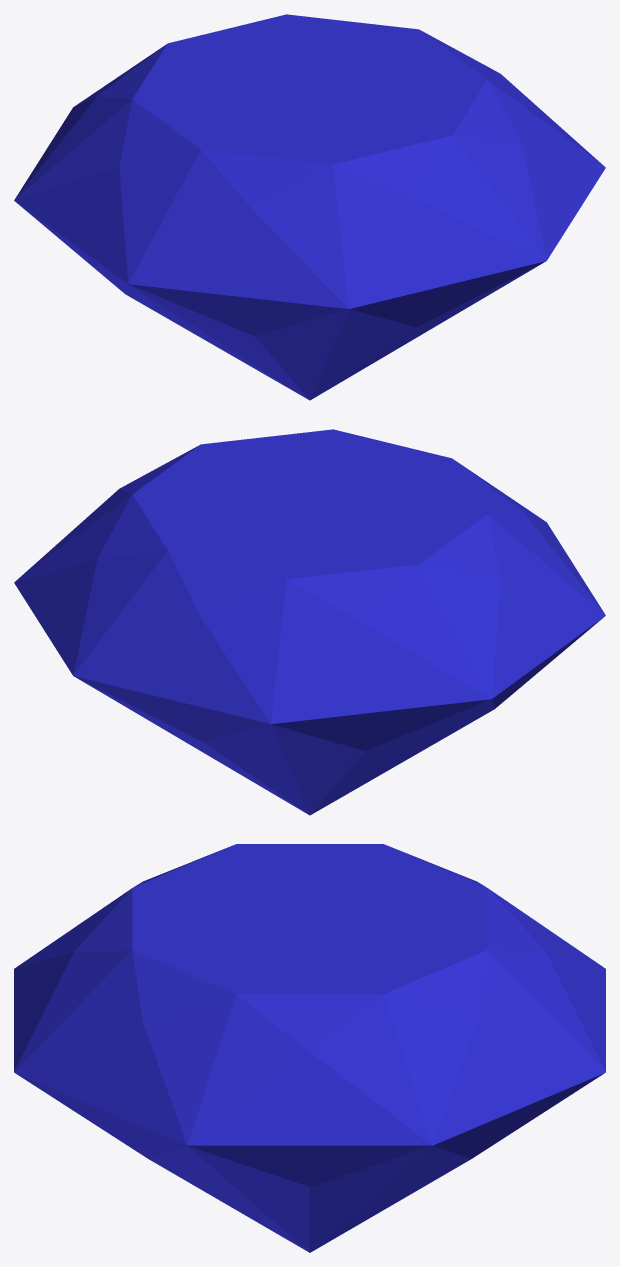
Rendered from Gem.fbx.
The picture shows the model from 3 angles, top to bottom: view 1: azimuth 30°, elevation 25°; view 2: azimuth 150°, elevation 25°; view 3: azimuth 270°, elevation 25°; orthographic projection. The views are drawn at different scales.
Parts seen in each view (by area): view 1: Light Blue; view 2: Light Blue; view 3: Light Blue.
Boxes of the visible parts, <box> form: Light Blue: <box>14,14,605,400</box>; Light Blue: <box>14,429,605,815</box>; Light Blue: <box>14,844,605,1252</box>.
Size of the model in its own units: 185 by 115 by 185.
